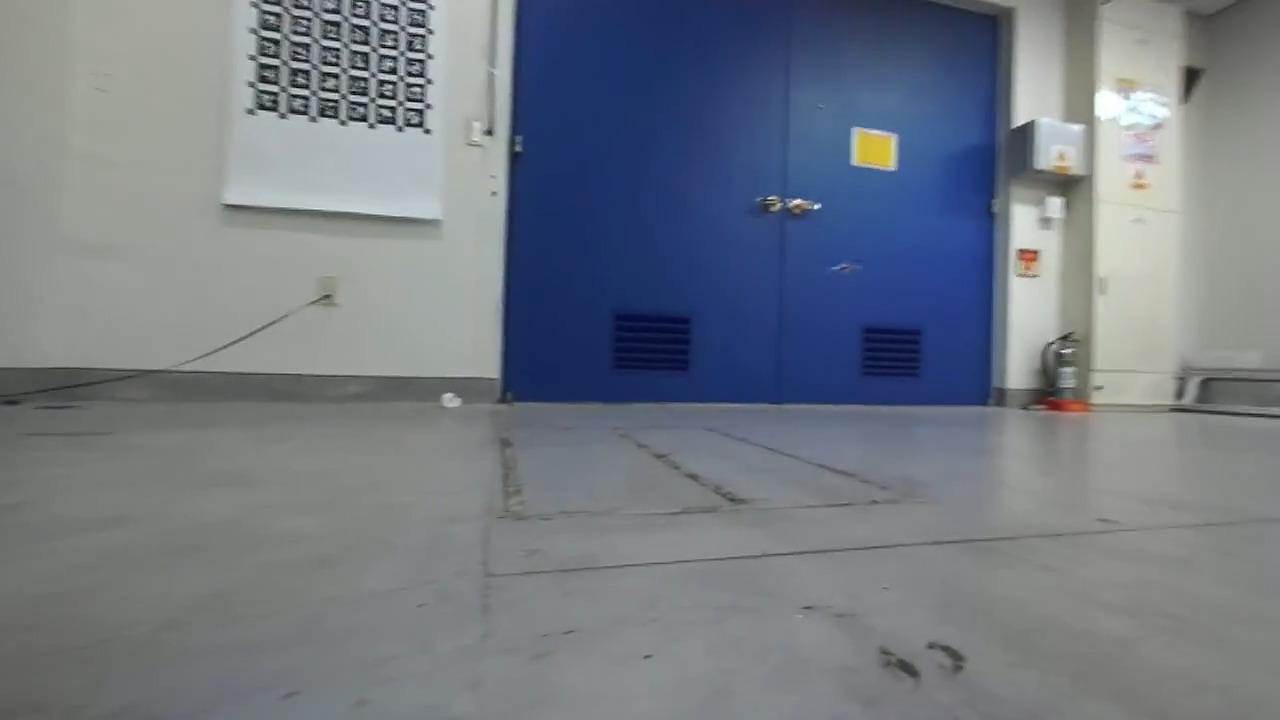crazyflie: (821, 255, 868, 280)
